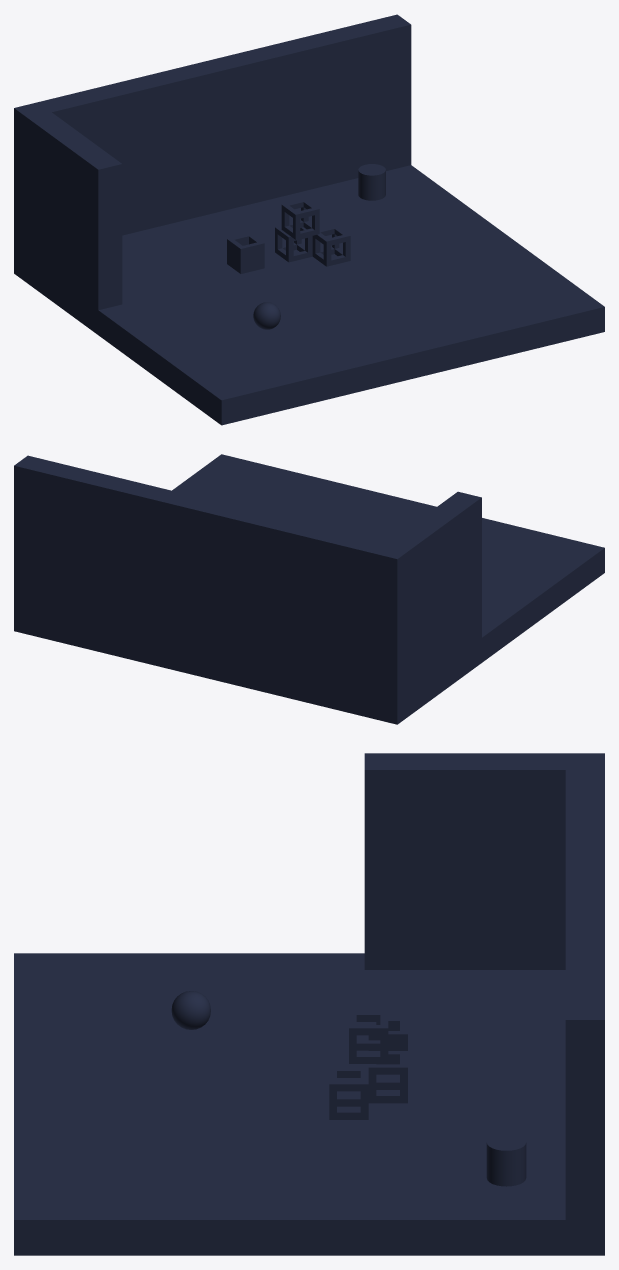
The model's file is proto.glb.
3 views of the same model, one above another, from view 1: azimuth 30°, elevation 25°; view 2: azimuth 150°, elevation 25°; view 3: azimuth 270°, elevation 25° (orthographic). The views are drawn at different scales.
Parts seen in each view (by area): view 1: block (×3), block_hollow (×3), block_tube, cylinder, sphere; view 2: block (×3); view 3: block (×3), block_hollow (×3), cylinder, sphere, block_tube.
Part boxes in pixels (x1,y1,x2,y2): block (×3): [14, 14, 604, 425]; block_hollow (×3): [275, 199, 350, 266]; block_tube: [227, 233, 264, 273]; cylinder: [358, 164, 385, 200]; sphere: [253, 302, 280, 329]; block (×3): [14, 454, 604, 724]; block (×3): [14, 753, 604, 1255]; block_hollow (×3): [329, 1011, 407, 1119]; cylinder: [486, 1134, 526, 1186]; sphere: [171, 991, 210, 1029]; block_tube: [368, 1017, 407, 1064].
Bounding box in the file's own units: 16 × 6.6 × 15.
